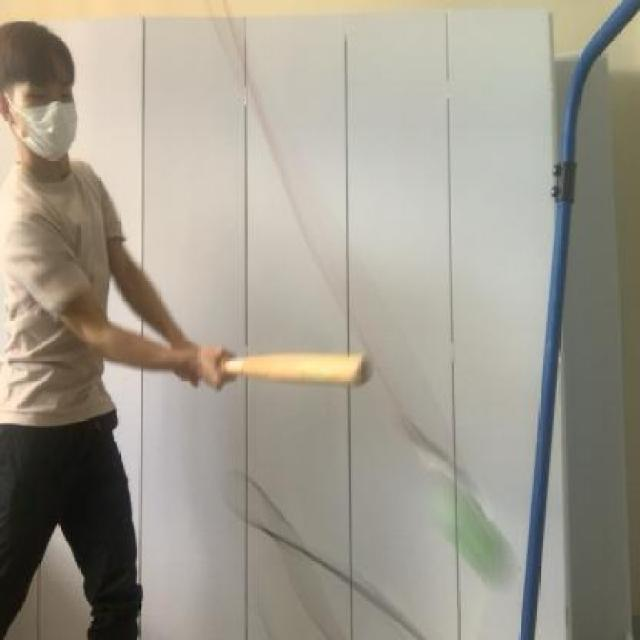baseball: (419, 464, 538, 598)
